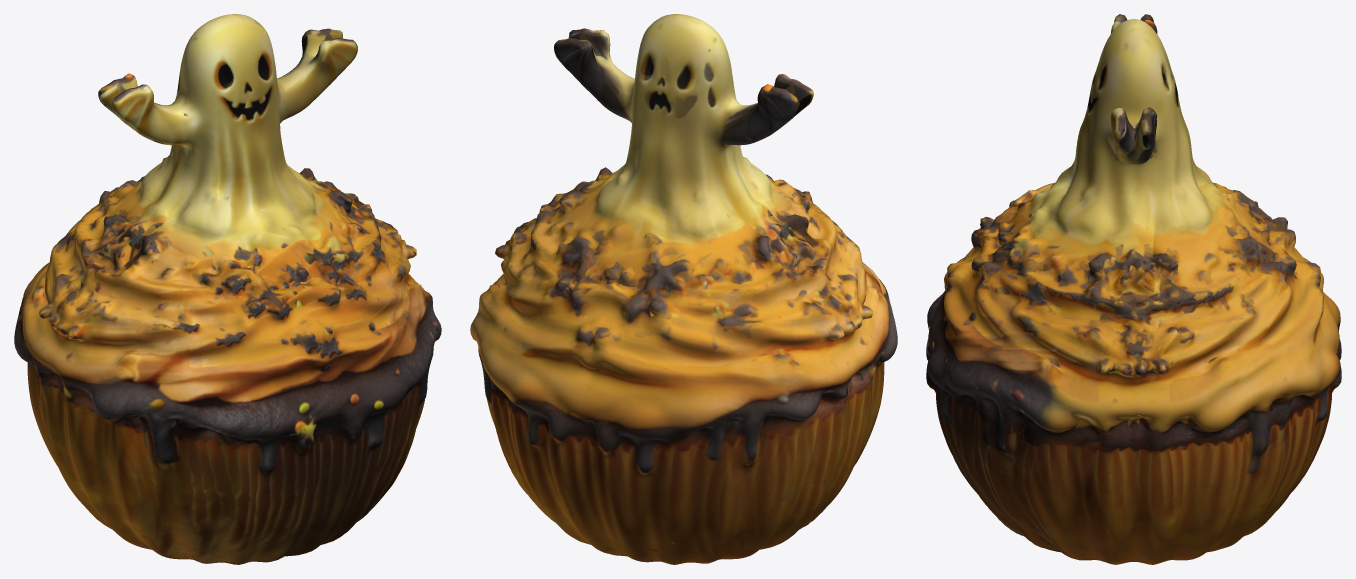
File: _halloween_The_obje_1022134056_refine.glb
The picture shows the model from 3 angles, left to right: view 1: azimuth 30°, elevation 25°; view 2: azimuth 150°, elevation 25°; view 3: azimuth 270°, elevation 25°; orthographic projection.
Bounding box in the file's own units: 1.47 × 2 × 1.49.
Materials: 1 (1 with a texture image).
